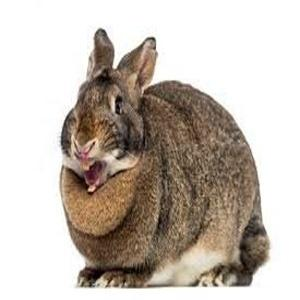rabbit: (60, 31, 270, 288)
